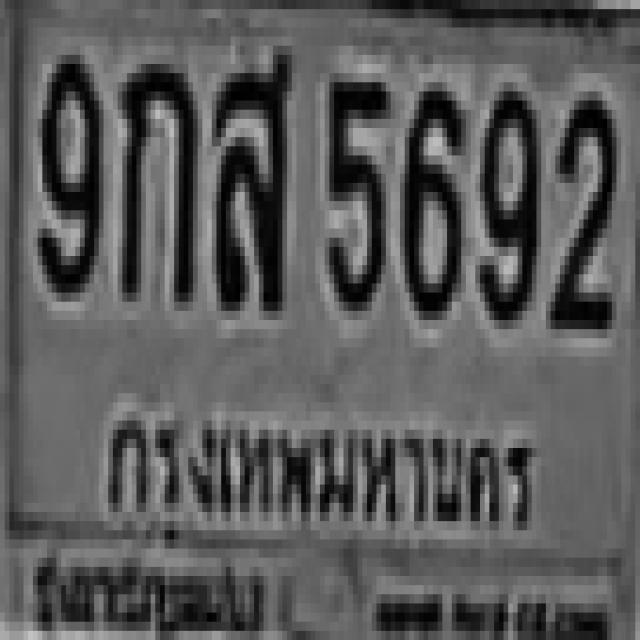10GorGai: (118, 55, 193, 292)
2: (546, 87, 612, 324)
49SorSuea: (212, 46, 287, 302)
5: (325, 73, 386, 302)
6: (400, 73, 456, 311)
9: (33, 45, 99, 292), (476, 82, 536, 320)
Bangkok: (98, 383, 536, 553)
